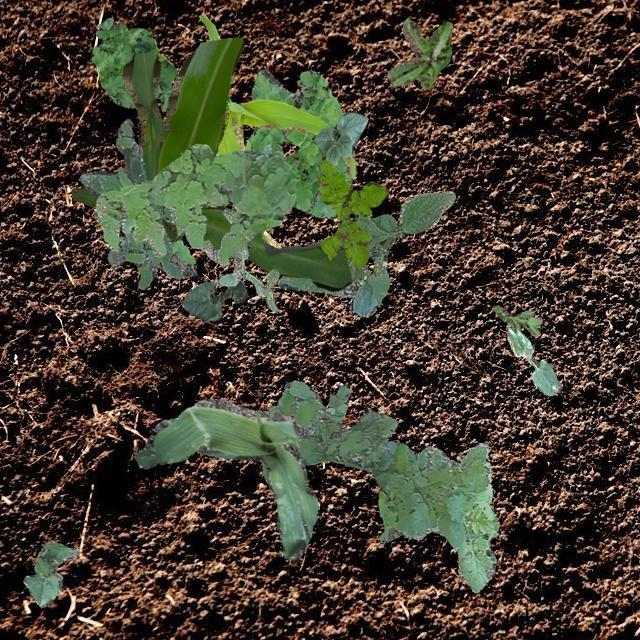crop: (70, 37, 350, 290), (198, 12, 356, 248), (134, 398, 318, 558), (276, 190, 454, 316), (506, 326, 560, 394), (22, 542, 78, 606), (310, 112, 368, 164), (180, 278, 247, 320)
weed: (262, 379, 498, 592), (168, 69, 352, 278), (94, 143, 294, 264), (78, 118, 180, 288), (198, 208, 278, 312), (90, 16, 176, 110), (316, 160, 386, 268), (386, 18, 452, 88), (492, 304, 542, 336)
